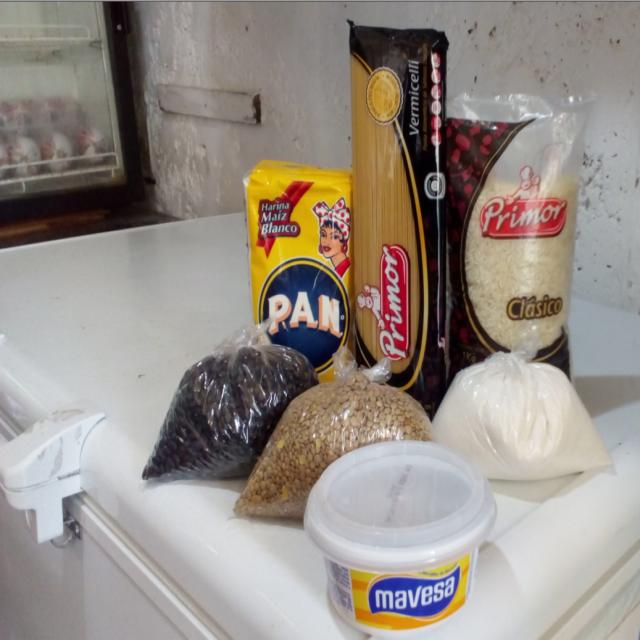Arina_pan: (241, 160, 351, 365)
Margarina: (307, 448, 499, 635)
